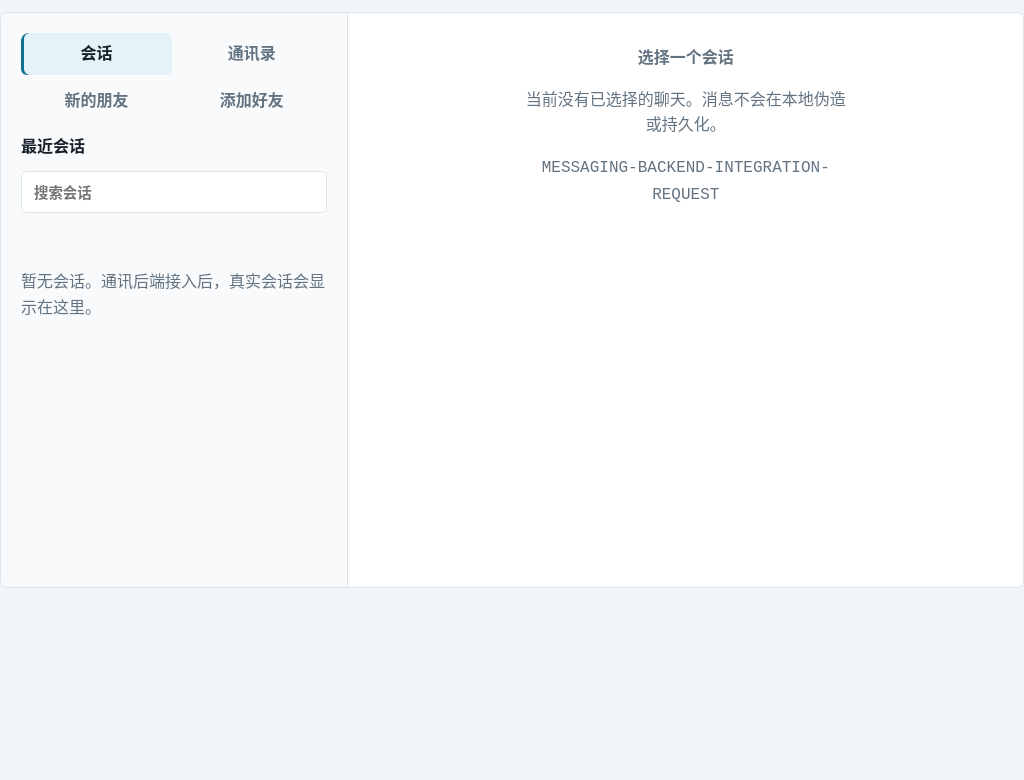
Test case: Web V4 R3 layout and information architecture contract › integrates messaging tabs into the left rail and keeps mobile chat state
Expected: the element with class "message-modes" is shown, [21,33,328,122]
Expected: the element with class "conversation-list" is shown, [21,270,325,318]
Click the tab "通讯录" at (252, 54), box [176,33,327,75]
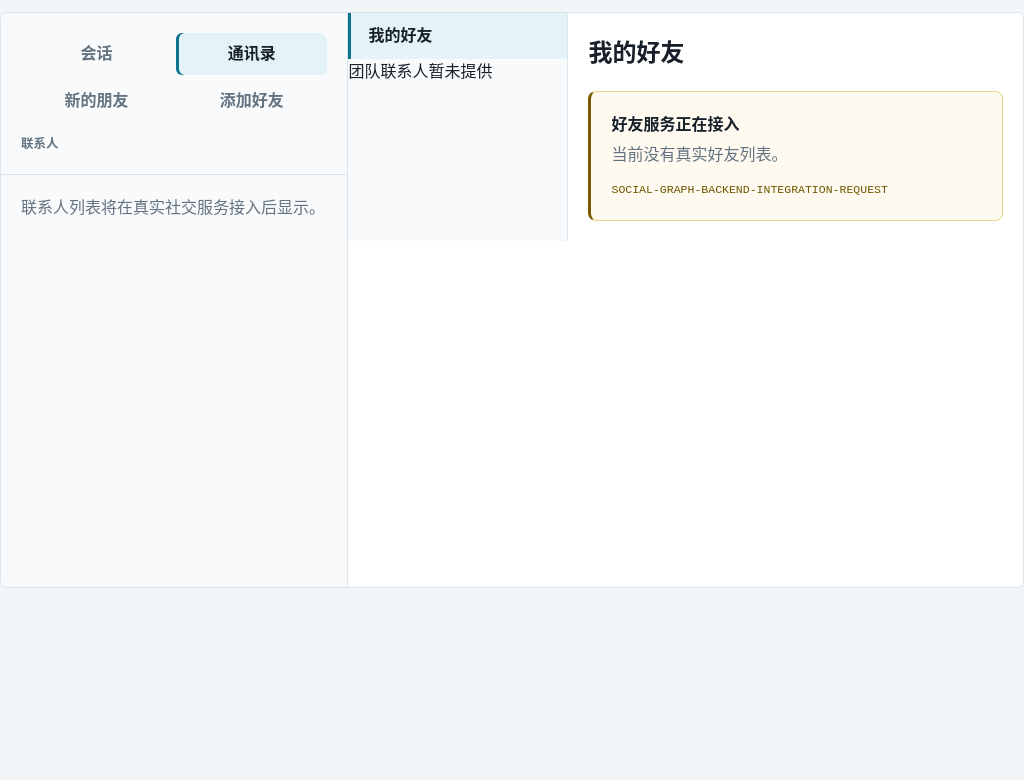
Now the text "联系人列表将在真实社交服务接入后显示。" is shown, box [1,174,348,240]
